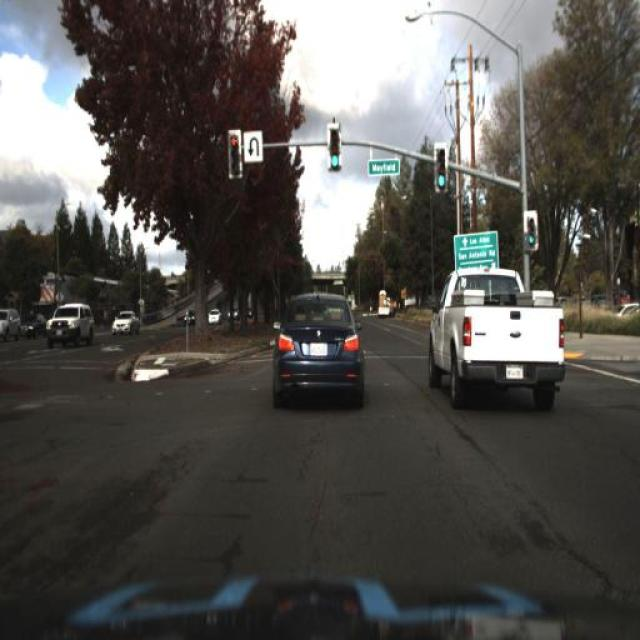car: (425, 261, 566, 409), (268, 283, 364, 406), (42, 302, 97, 356), (103, 305, 137, 340), (22, 308, 52, 343), (17, 312, 44, 346), (109, 310, 143, 335), (202, 303, 222, 331), (375, 290, 395, 318), (376, 288, 392, 318), (180, 306, 200, 329)
trafficLight-GreenLeft: (428, 156, 449, 218), (325, 124, 346, 184), (525, 212, 545, 272)
trafficLight-Yellow: (225, 117, 249, 188)
